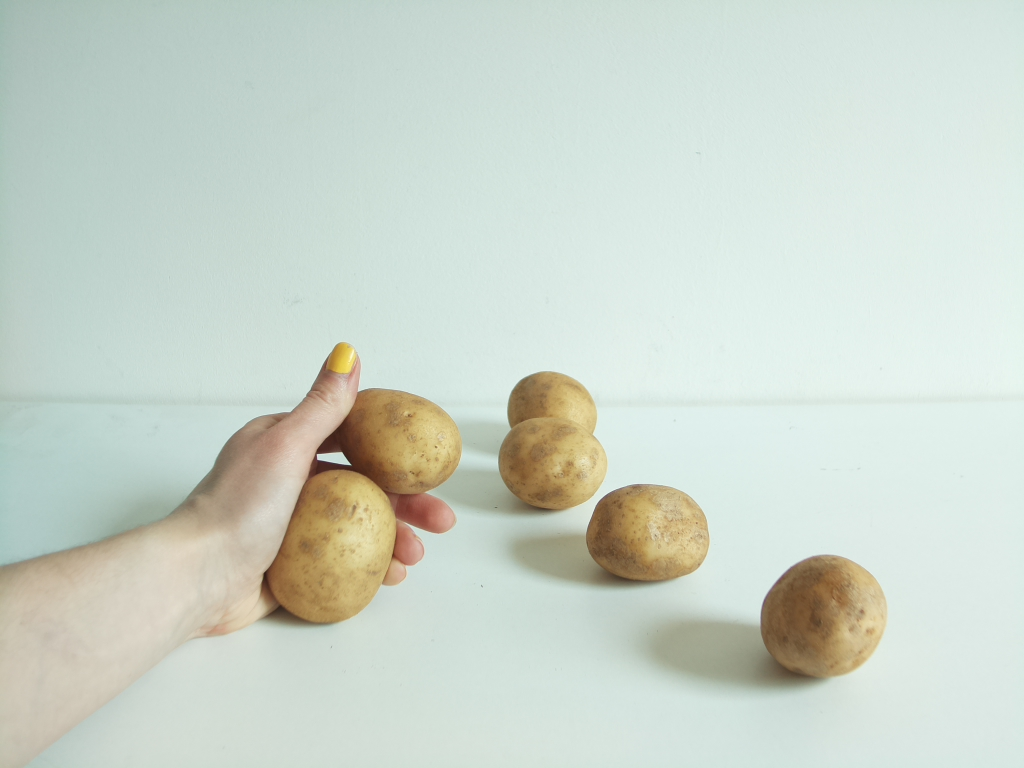potatoes: (263, 468, 396, 633), (761, 554, 891, 680), (501, 370, 605, 505), (345, 387, 461, 489), (587, 482, 705, 580)
